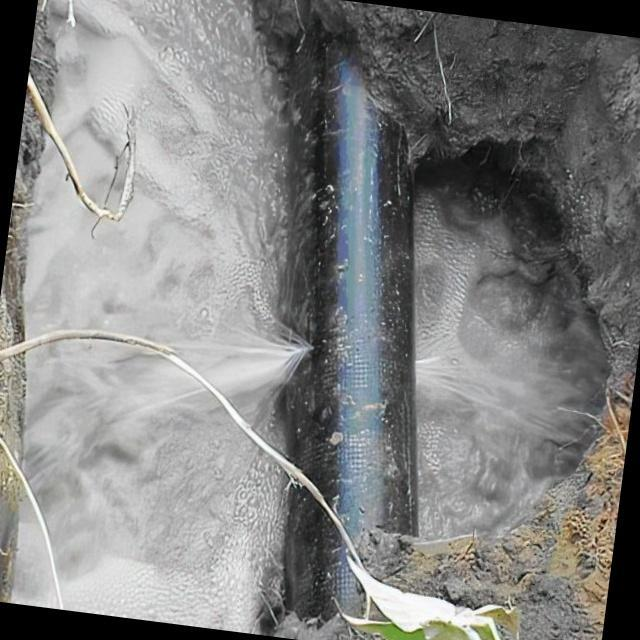pipe burst: (164, 327, 319, 401), (409, 351, 500, 393)
water accumulation: (13, 0, 611, 636)
